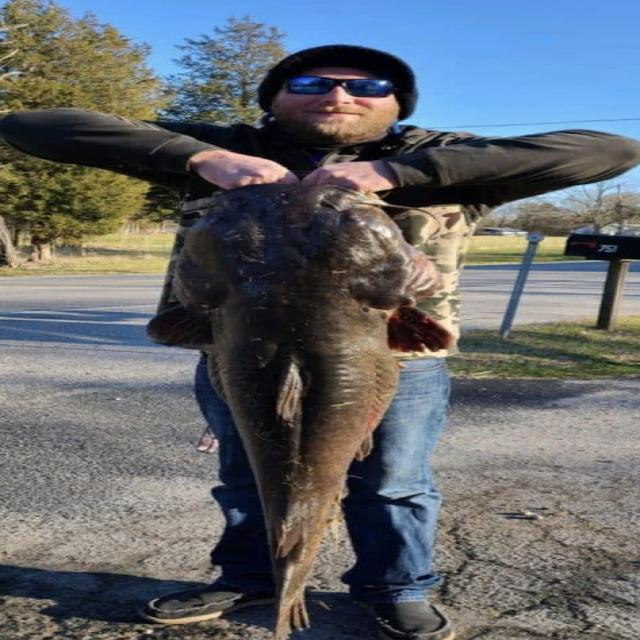Catfish - Flathead: (173, 184, 449, 639)
